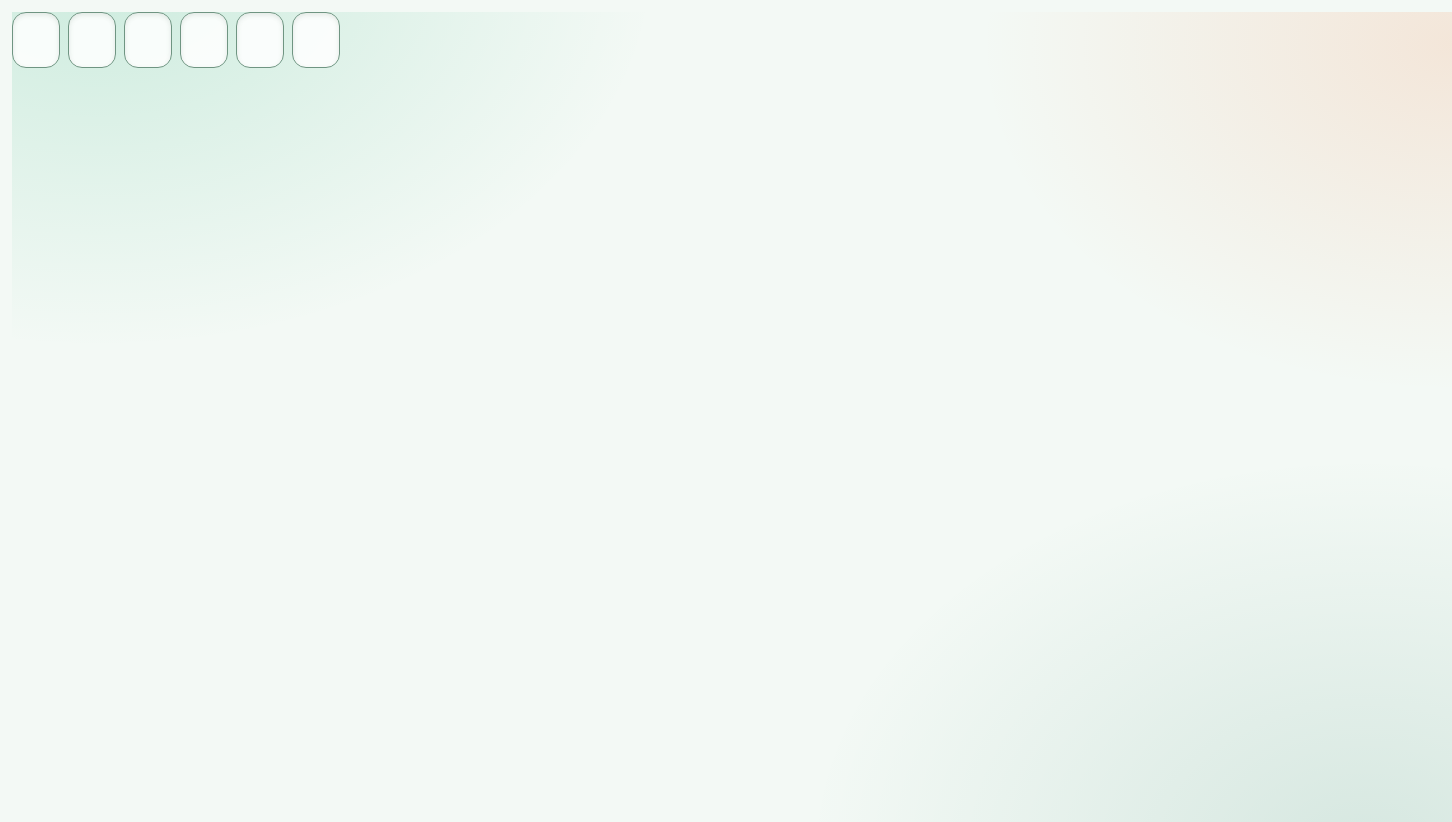
Test: kit Bénin Vert › OTP : avance seule, ignore les lettres, accepte le code collé
Click the field named "Chiffre 1 sur 6" at (36, 40), box [12, 12, 60, 68]
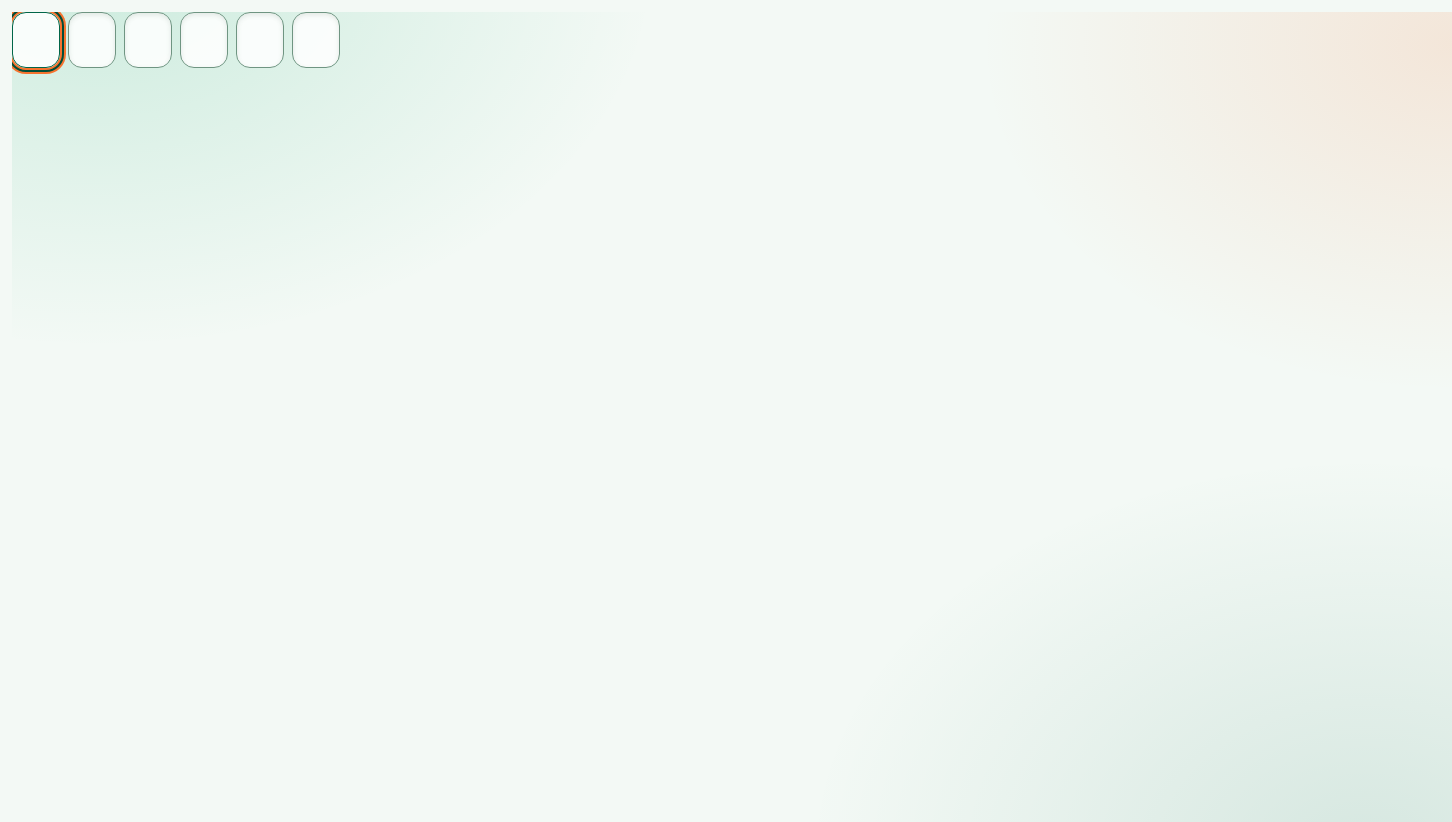
Type keys "1a2"
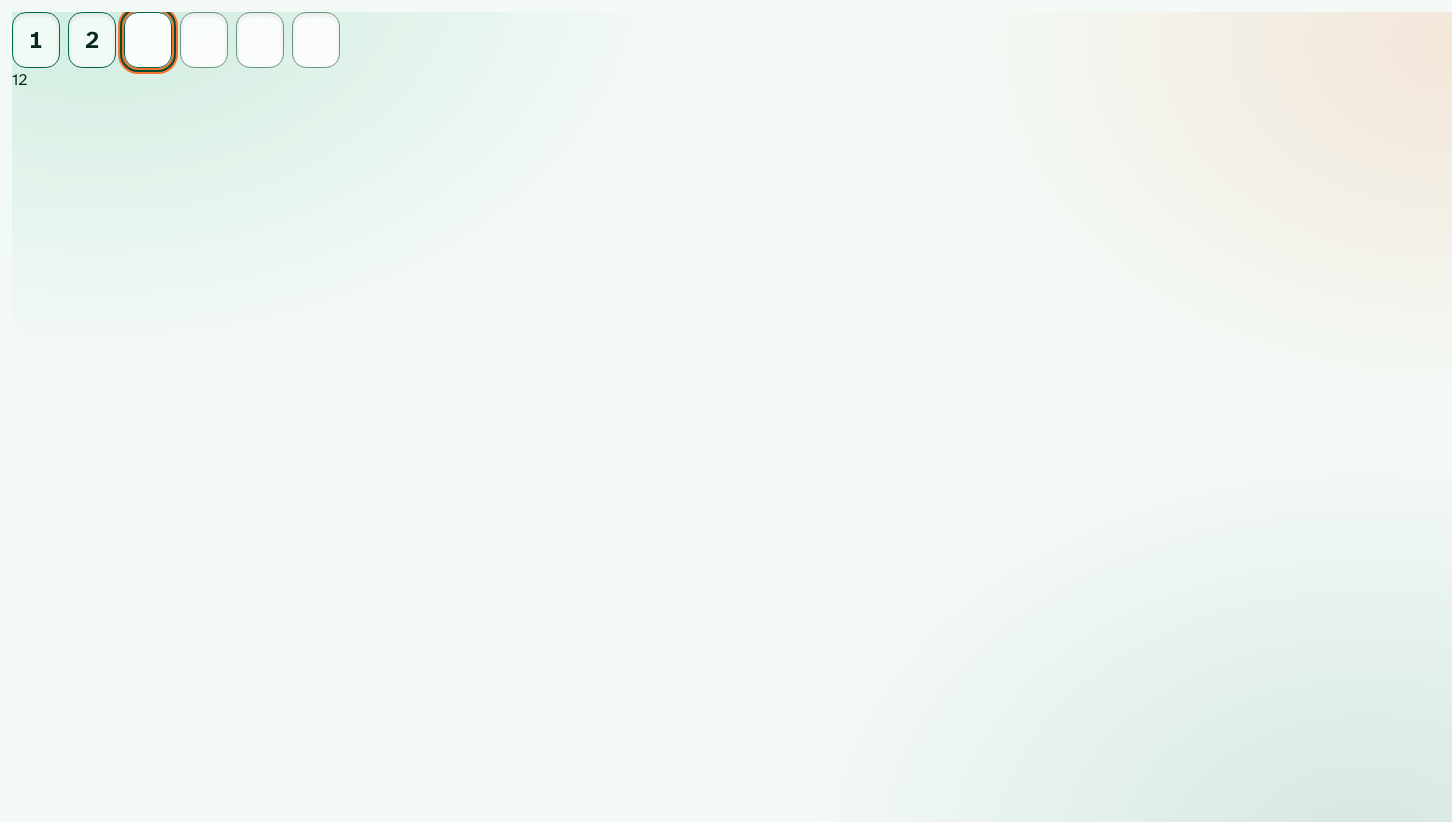
Result: the text "12" is shown at [12, 69, 27, 90]
Click the field named "Chiffre 1 sur 6" at (36, 40), box [12, 12, 60, 68]
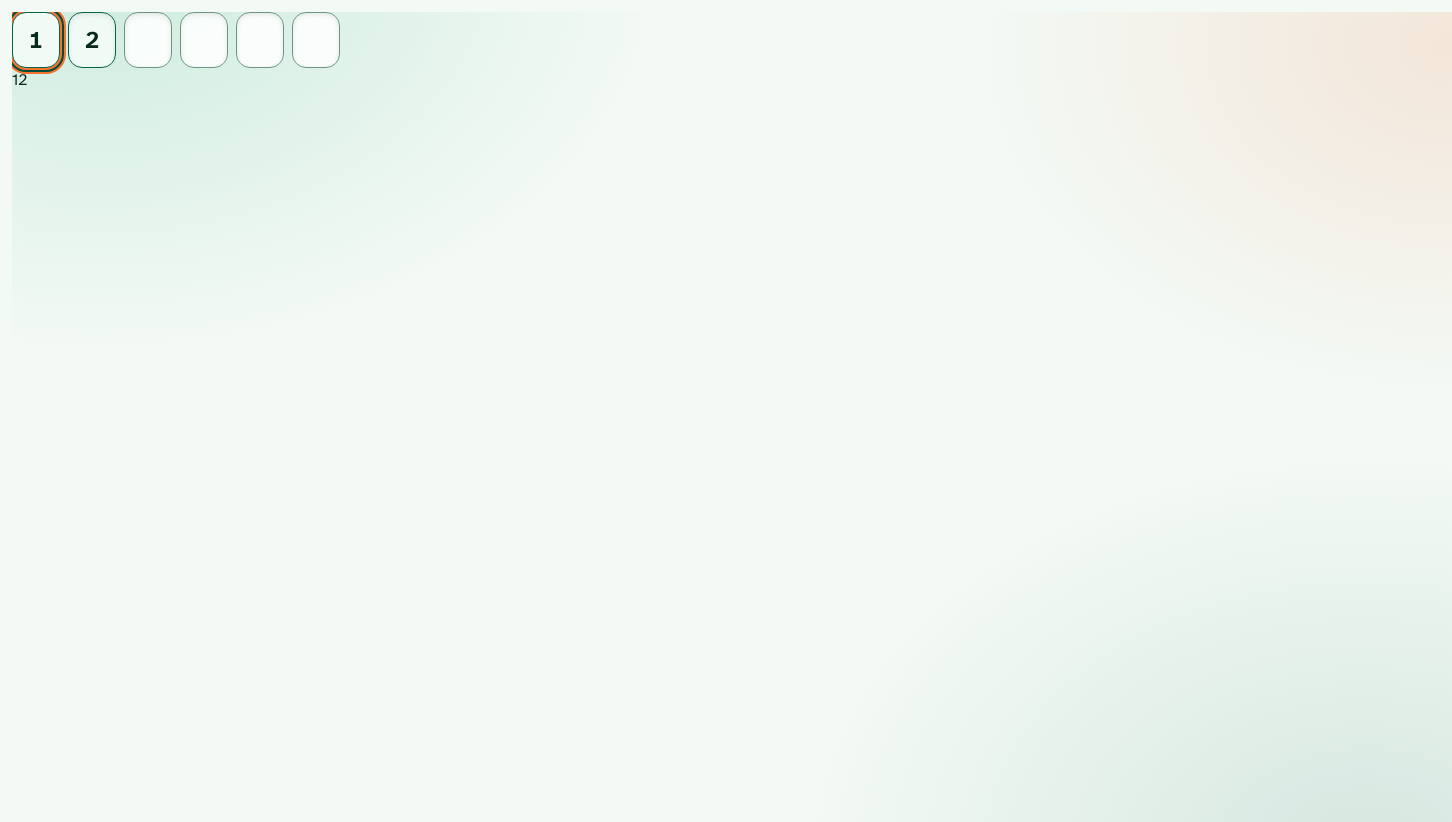
Type keys "654321"
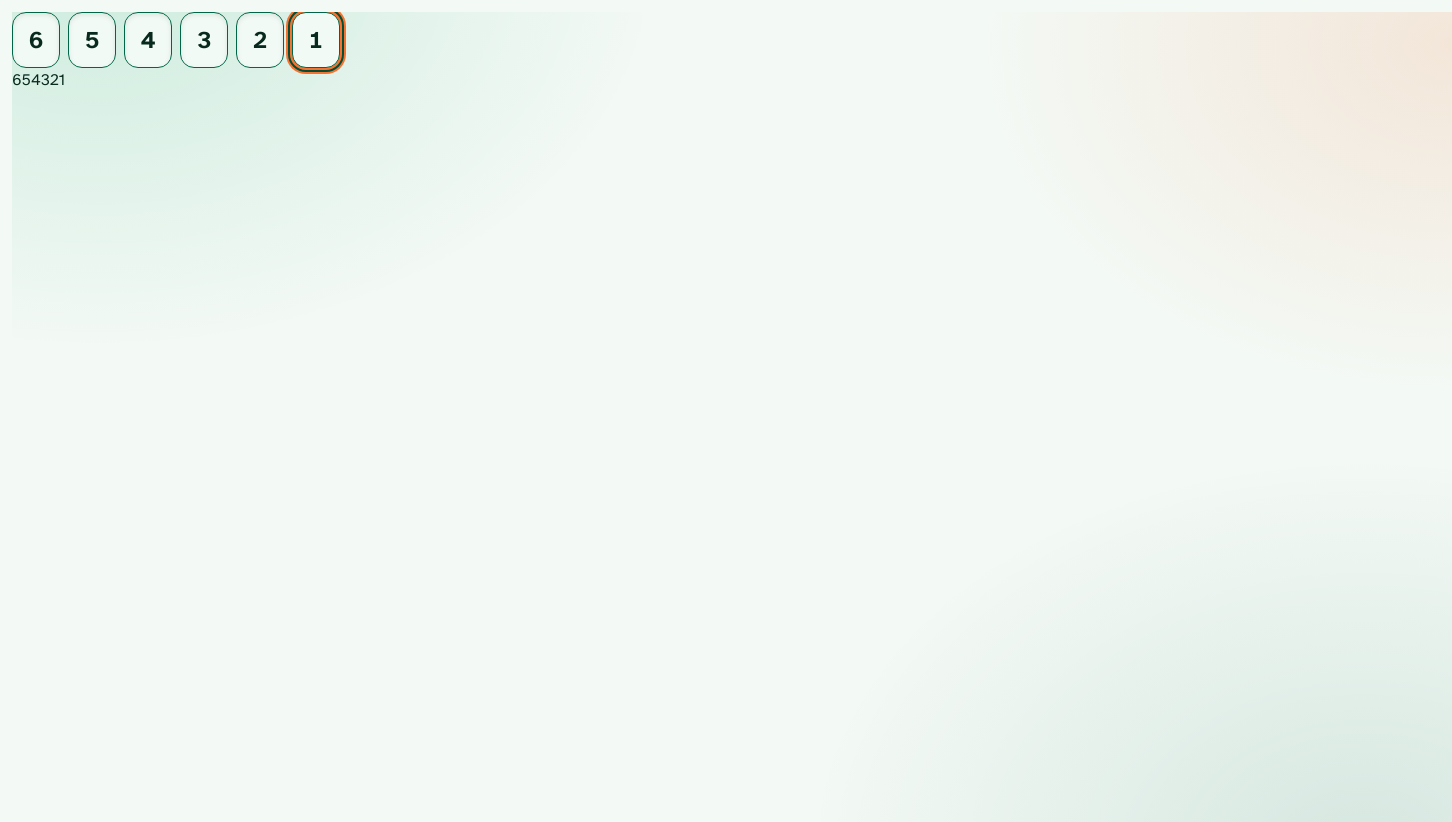
Result: the text "654321" is shown at [12, 69, 65, 90]
